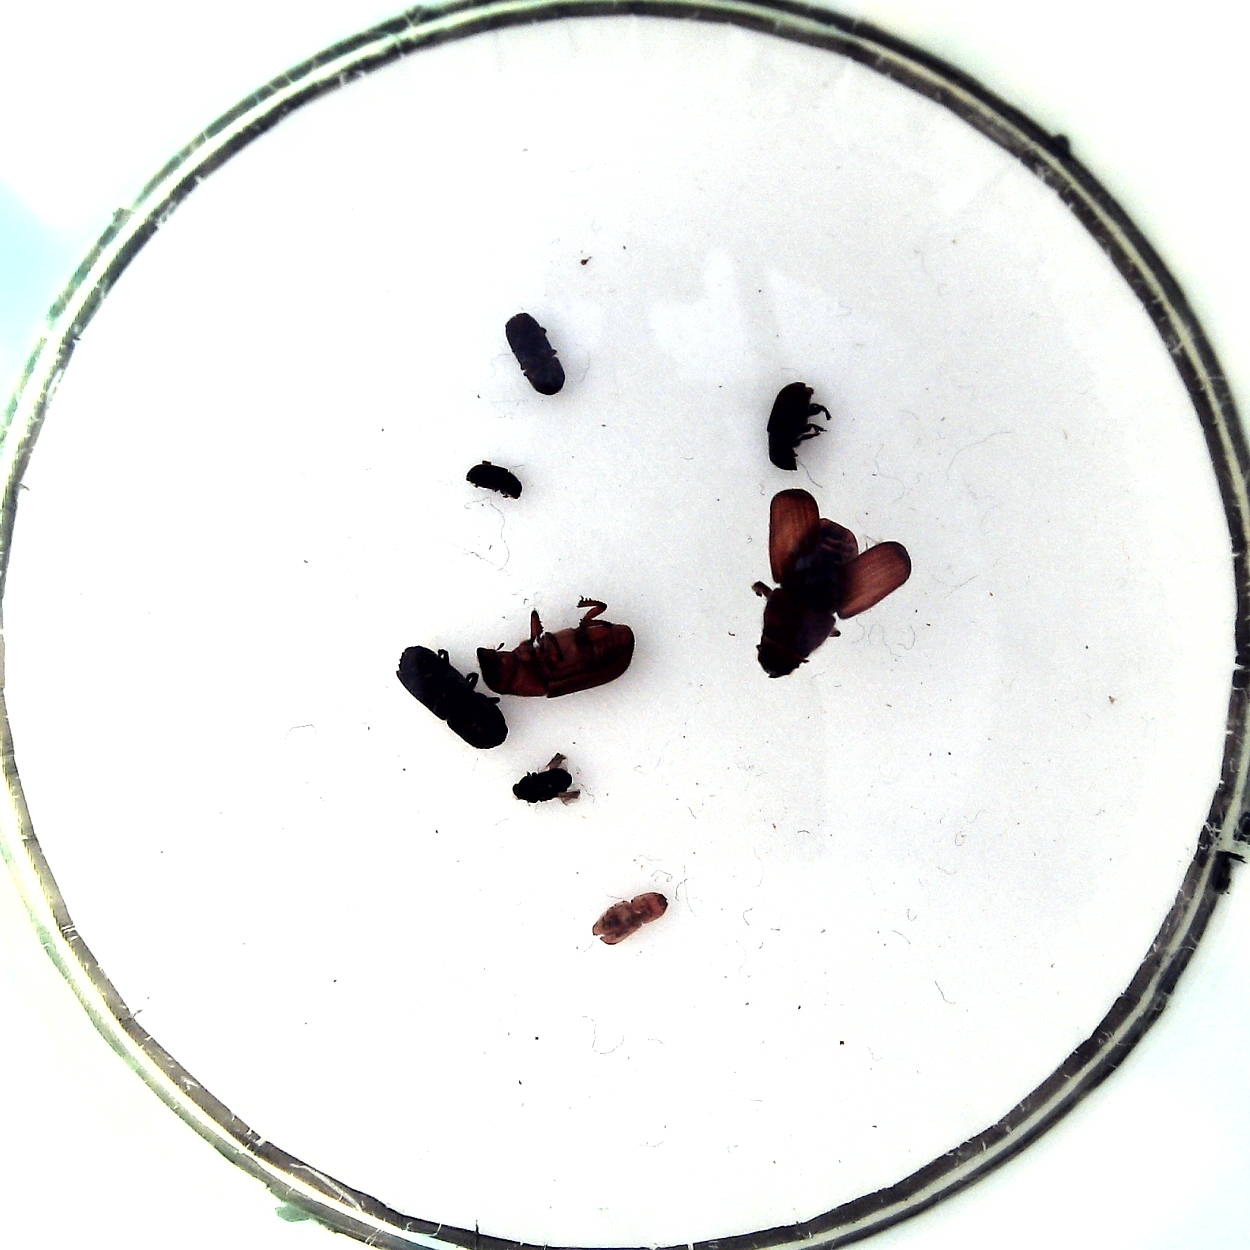Boerner: (394, 644, 509, 750)
Leconte: (751, 517, 859, 679), (476, 622, 635, 698)
acuminatus: (511, 769, 572, 802)
armandi: (765, 382, 815, 470)
coleoptera: (592, 892, 668, 946), (465, 462, 523, 500)
linnaeus: (505, 312, 565, 396)
